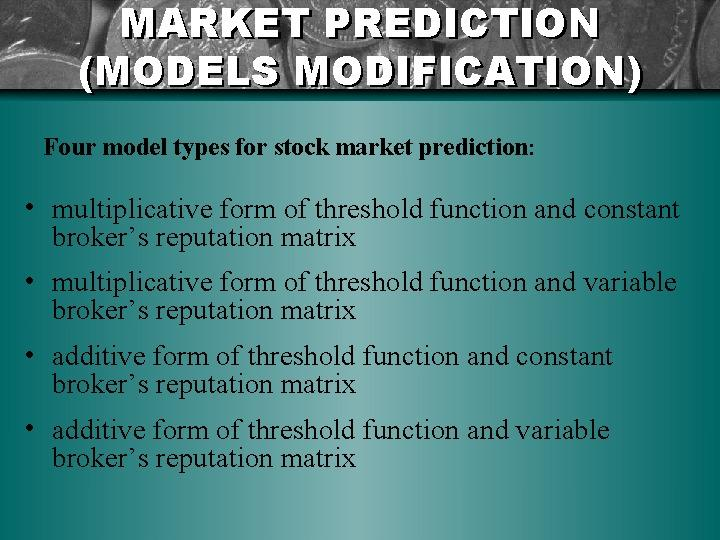paragraph: (23, 180, 700, 521)
subtitle: (39, 119, 541, 174)
title: (73, 2, 646, 99)
